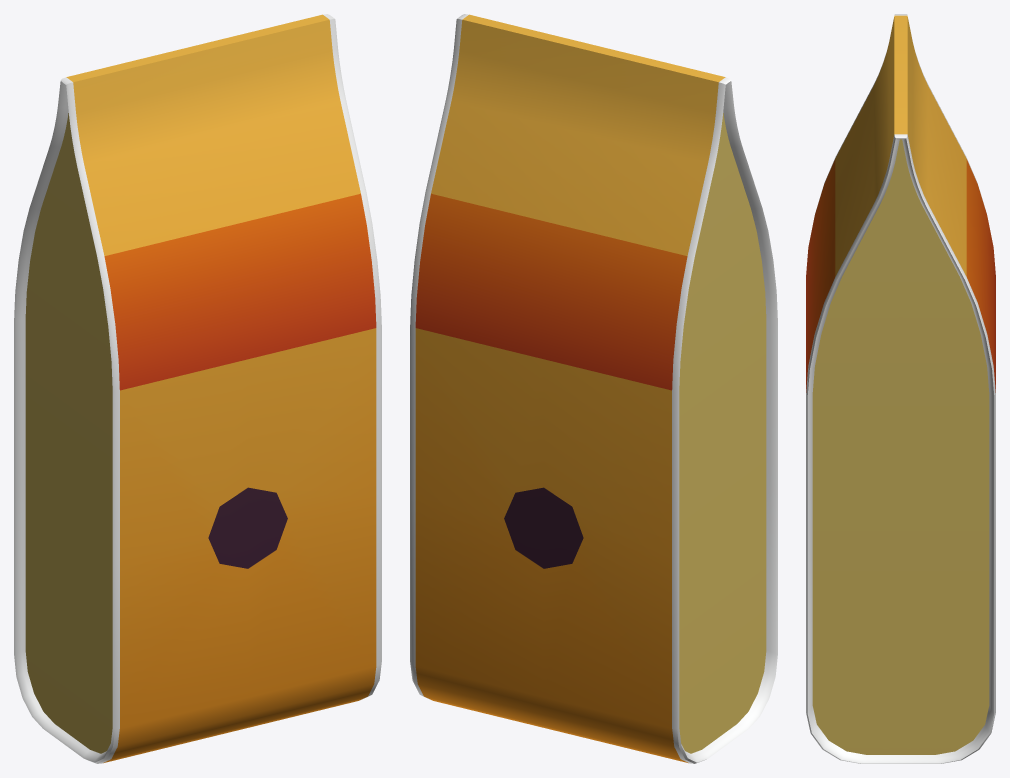
Rendered from SeedPack.fbx.
3 renders of one model, left to right at view 1: azimuth 30°, elevation 25°; view 2: azimuth 150°, elevation 25°; view 3: azimuth 270°, elevation 25°, orthographic. The views are drawn at different scales.
Parts seen in each view (by area): view 1: SeedPack; view 2: SeedPack; view 3: SeedPack.
Part boxes in pixels (x1=…): SeedPack: x1=14, y1=14, x2=381, y2=763; SeedPack: x1=410, y1=14, x2=777, y2=763; SeedPack: x1=806, y1=14, x2=995, y2=763.
Bounding box in the file's own units: 0.1172 × 0.2763 × 0.0756.
